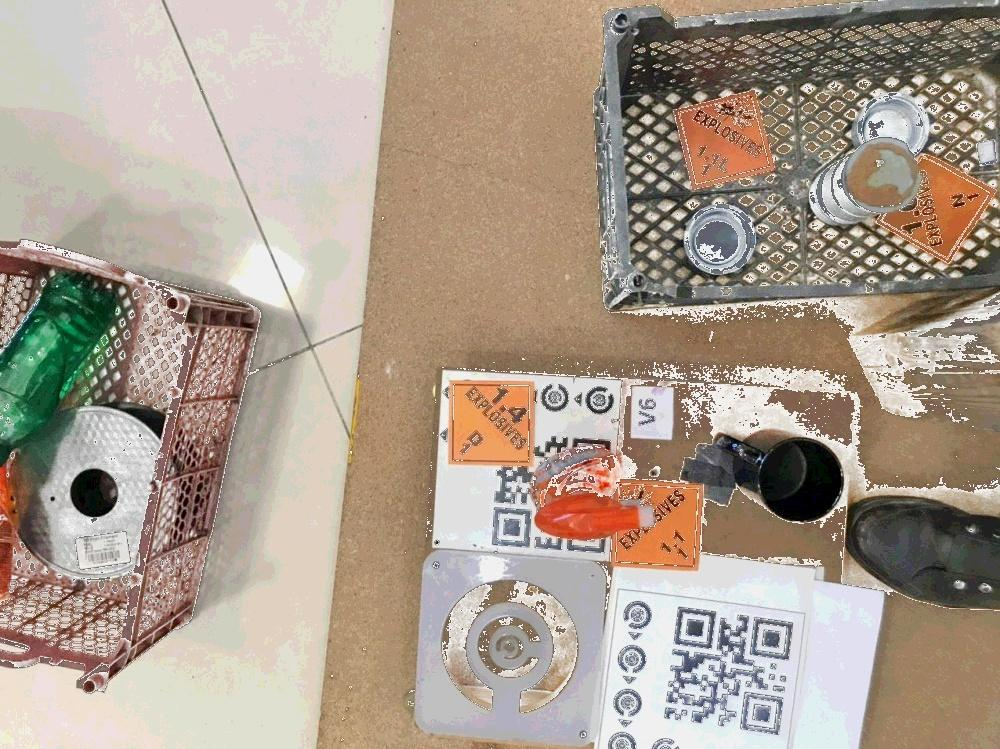explosive: (876, 154, 995, 263), (673, 88, 773, 190), (610, 478, 705, 570), (448, 380, 536, 466)
